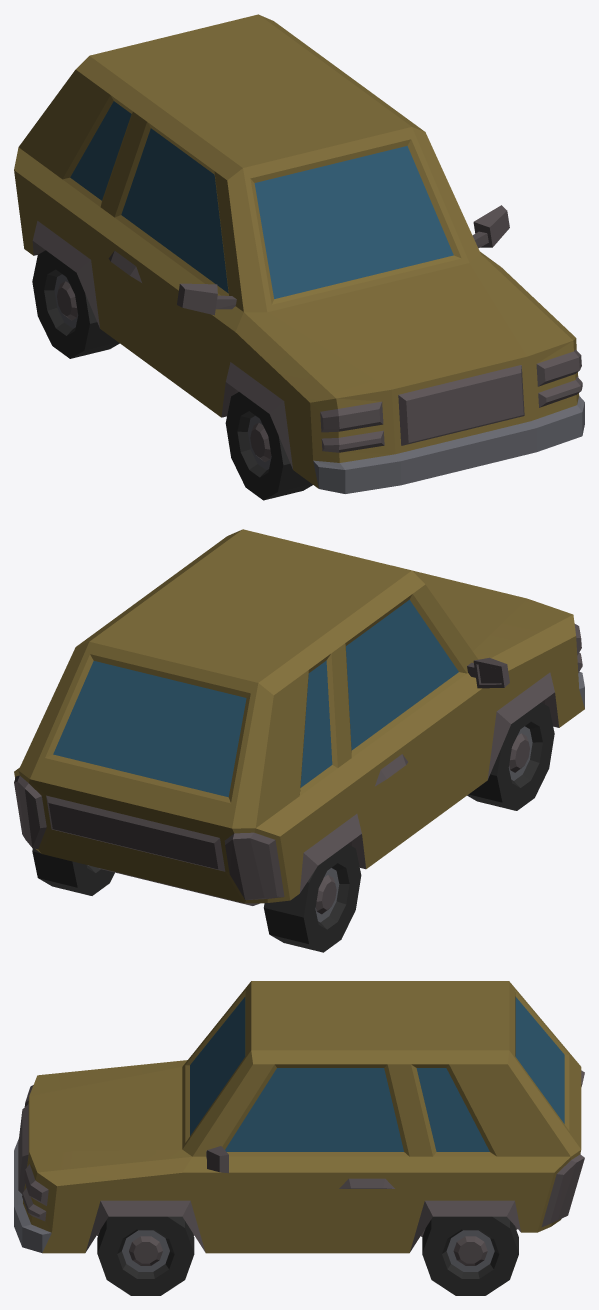
File: Mobil.gltf
The picture shows the model from 3 angles, top to bottom: view 1: azimuth 30°, elevation 25°; view 2: azimuth 150°, elevation 25°; view 3: azimuth 270°, elevation 25°; orthographic projection. The views are drawn at different scales.
Parts seen in each view (by area): view 1: VehicleA; view 2: VehicleA; view 3: VehicleA.
Part boxes in pixels (left/top/right/bottom): VehicleA: left=14, top=14, right=584, bottom=500; VehicleA: left=14, top=529, right=584, bottom=952; VehicleA: left=14, top=981, right=584, bottom=1295.
Size of the model in its own units: 1.79 by 1.4 by 3.22.
